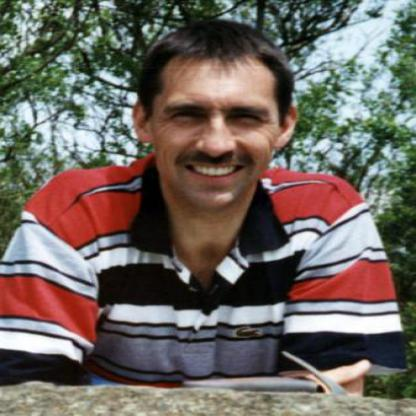face: (152, 25, 281, 213)
